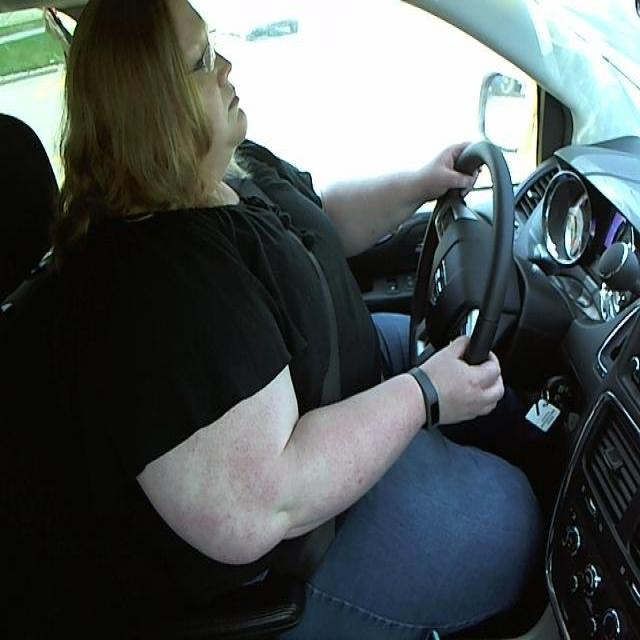without_using_phone: (36, 7, 254, 241)
